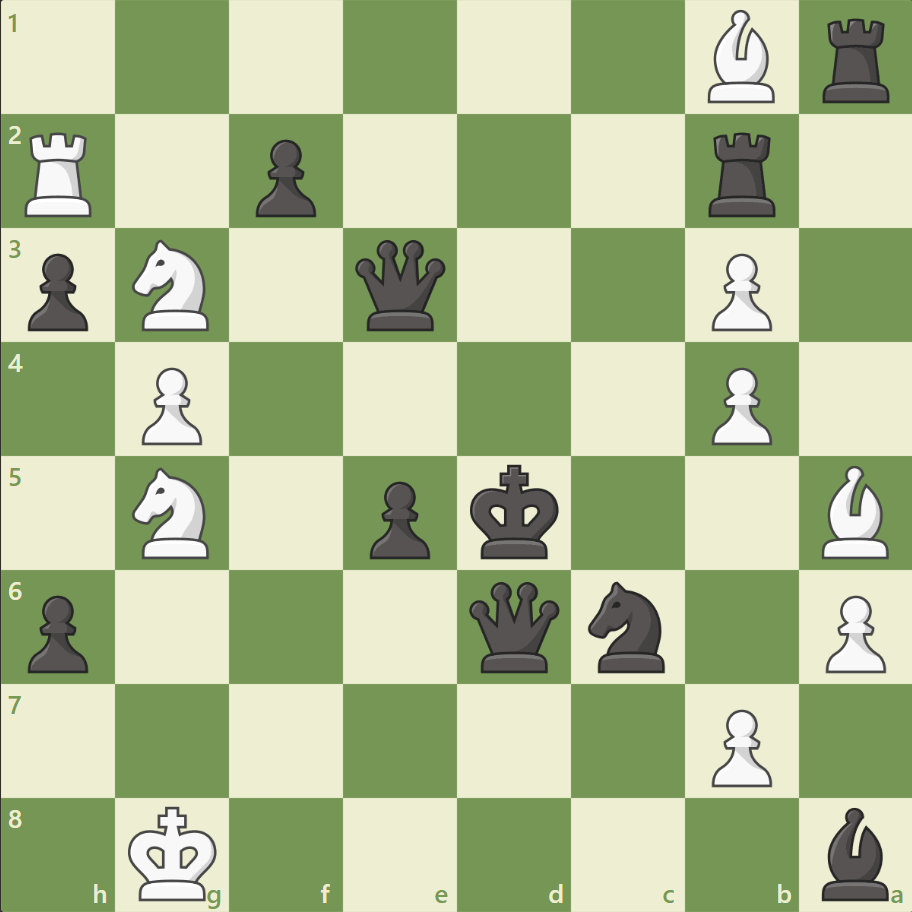B: (812, 460, 896, 563), (698, 6, 782, 109)
K: (124, 798, 224, 906)
N: (124, 461, 222, 564), (124, 234, 222, 337)
P: (701, 700, 776, 791), (701, 359, 776, 450), (133, 359, 208, 450), (701, 246, 776, 337), (815, 586, 889, 677)
R: (19, 125, 102, 222)
b: (812, 801, 896, 904)
k: (465, 458, 565, 566)
n: (579, 575, 676, 677)
p: (20, 586, 95, 677), (20, 246, 95, 337), (247, 132, 322, 223), (361, 473, 435, 564)
q: (464, 576, 563, 676), (351, 236, 450, 335)
r: (700, 125, 783, 222), (814, 12, 897, 109)
